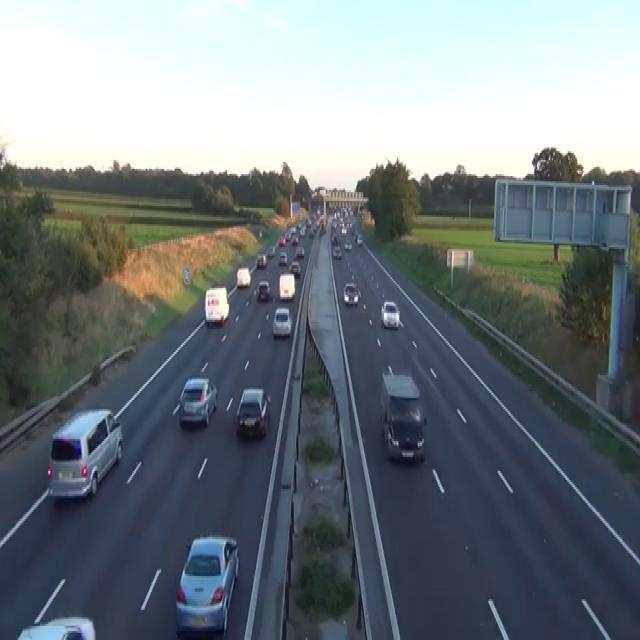Car: (46, 407, 123, 500), (175, 533, 239, 635), (16, 578, 96, 638), (379, 366, 426, 462), (178, 377, 217, 427), (17, 615, 95, 638), (235, 386, 270, 437), (380, 300, 400, 329), (272, 308, 292, 336), (343, 281, 360, 306), (257, 279, 270, 301), (236, 267, 251, 286), (288, 260, 300, 276), (256, 252, 267, 268), (332, 244, 342, 258), (278, 251, 287, 265), (267, 244, 275, 258), (296, 245, 304, 258), (344, 240, 352, 251), (291, 235, 298, 245), (331, 233, 338, 243), (305, 217, 312, 227), (320, 224, 326, 235), (278, 237, 285, 246), (284, 231, 291, 240), (356, 233, 362, 243), (299, 226, 305, 236), (340, 226, 346, 234), (309, 228, 315, 236), (354, 231, 358, 242), (258, 230, 262, 238)
Truck: (204, 286, 229, 326), (278, 272, 295, 300)
